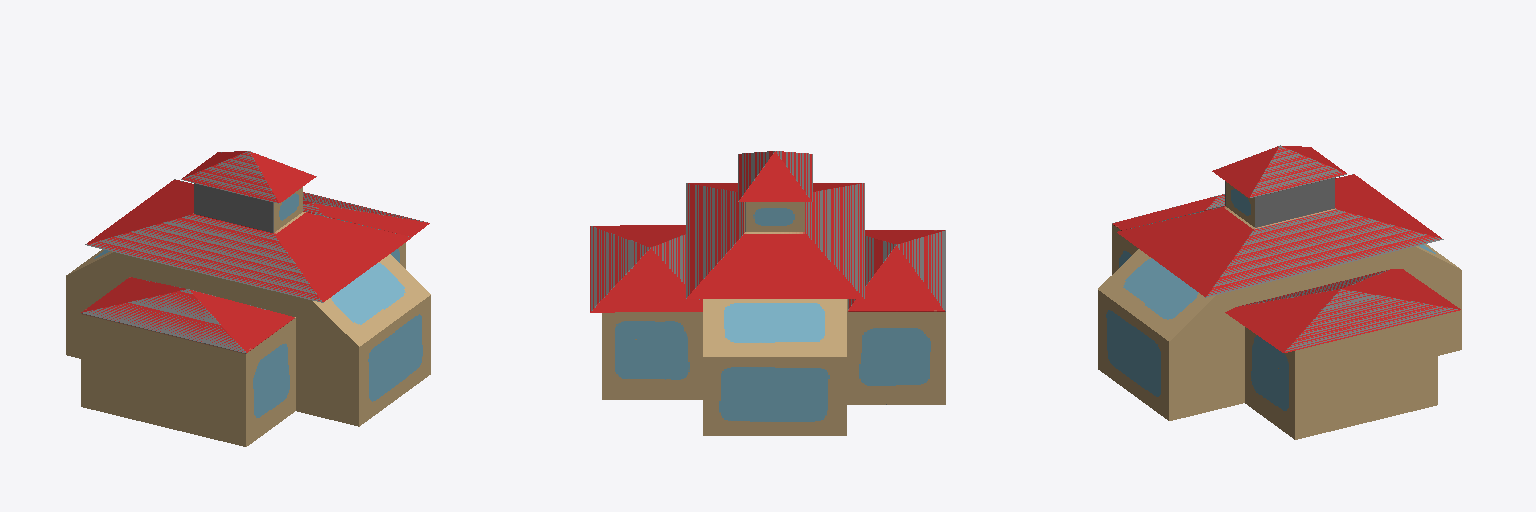
3 views of the same model, side by side, from view 1: azimuth 30°, elevation 25°; view 2: azimuth 150°, elevation 25°; view 3: azimuth 270°, elevation 25° (orthographic).
Parts seen in each view (by area): view 1: pCube1; view 2: pCube1; view 3: pCube1.
Part boxes in pixels (left/top/right/bottom): pCube1: left=66, top=151, right=430, bottom=446; pCube1: left=590, top=151, right=945, bottom=435; pCube1: left=1098, top=145, right=1461, bottom=439.
Bounding box in the file's own units: 3.98 × 2.3 × 3.56.
1 materials, 1 textured.